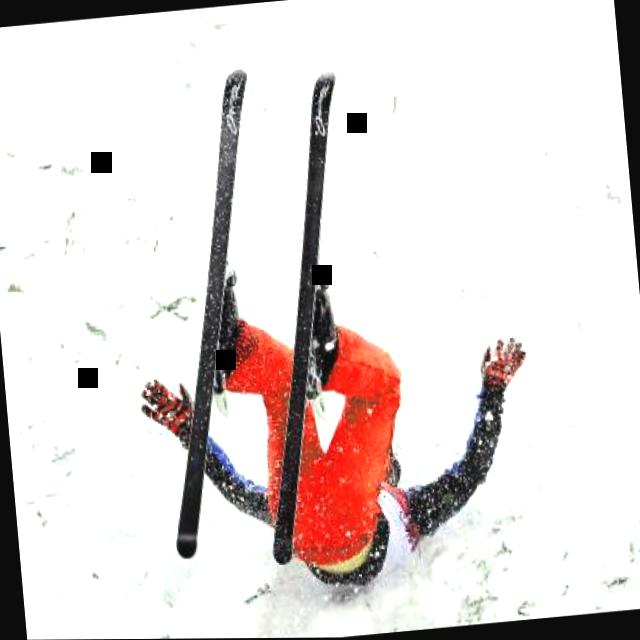Fall-Detected: (111, 224, 576, 620)
